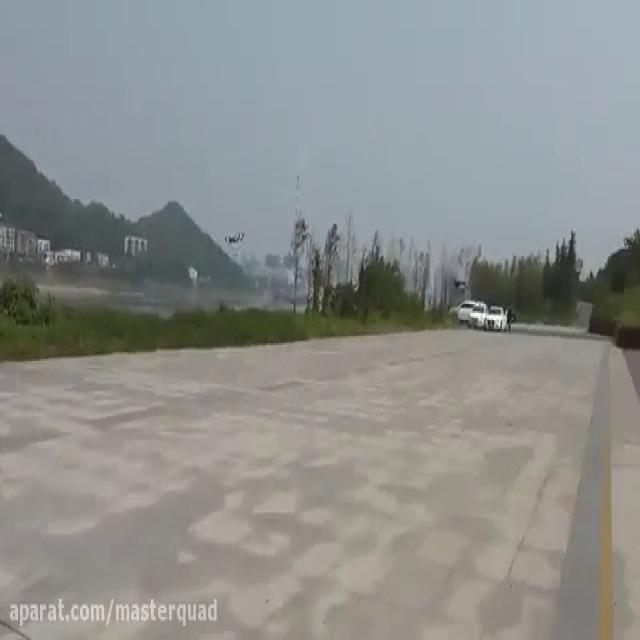drone: (222, 222, 245, 245)
